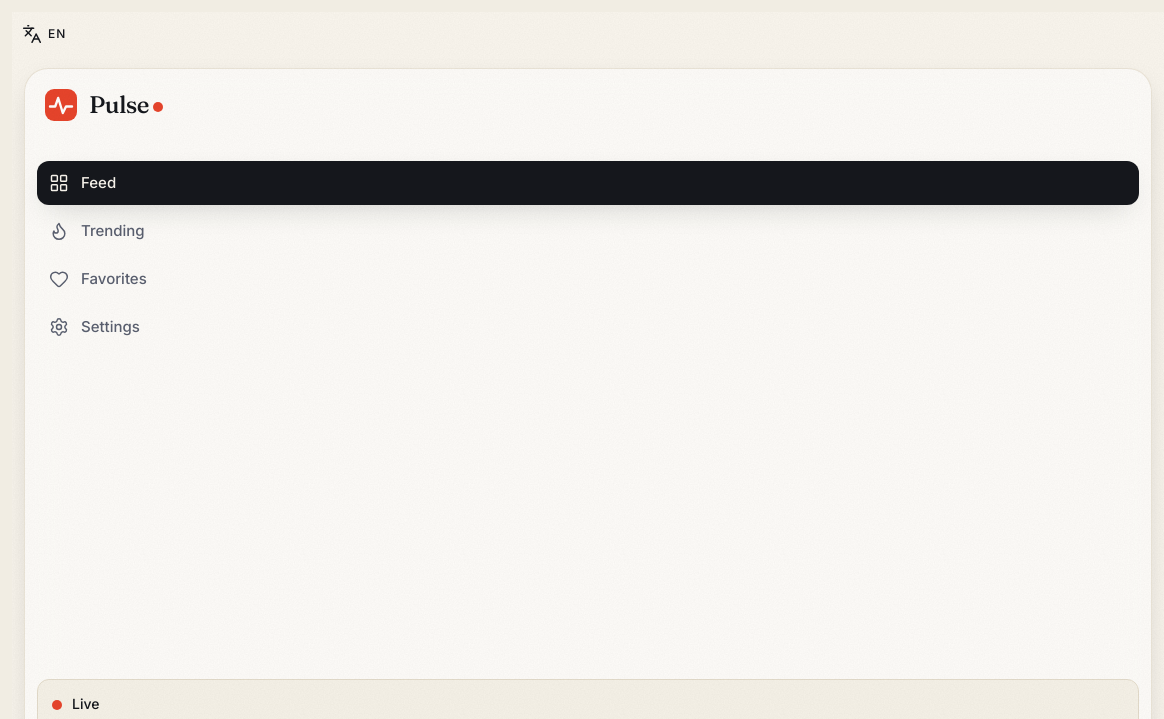
it: LanguageSwitch › choosing Español updates the store and the UI language, closes the menu and returns focus
What coordinates should you click on to do the following:
click the button with aria-label "Language:"
I would click on:
 (44, 34)
Its box is x1=12 y1=12 x2=76 y2=56.
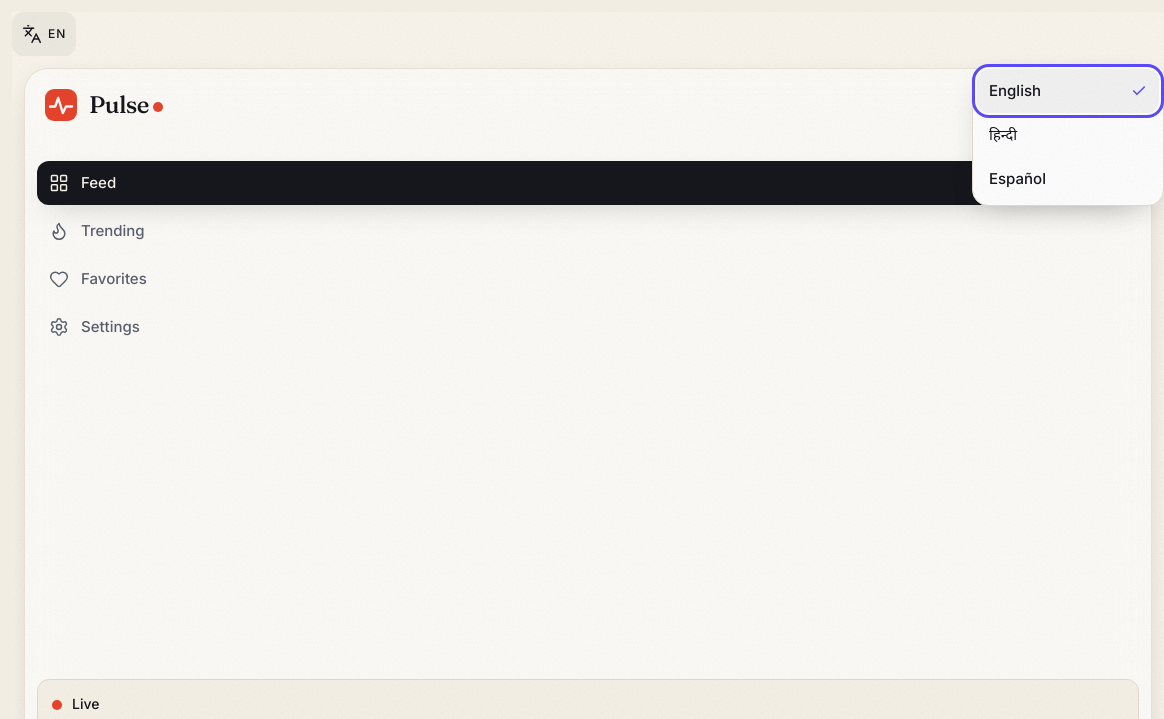
What coordinates should you click on to do the following:
click the menu item "Español"
I would click on:
 (1068, 179)
Its box is x1=977 y1=157 x2=1159 y2=201.
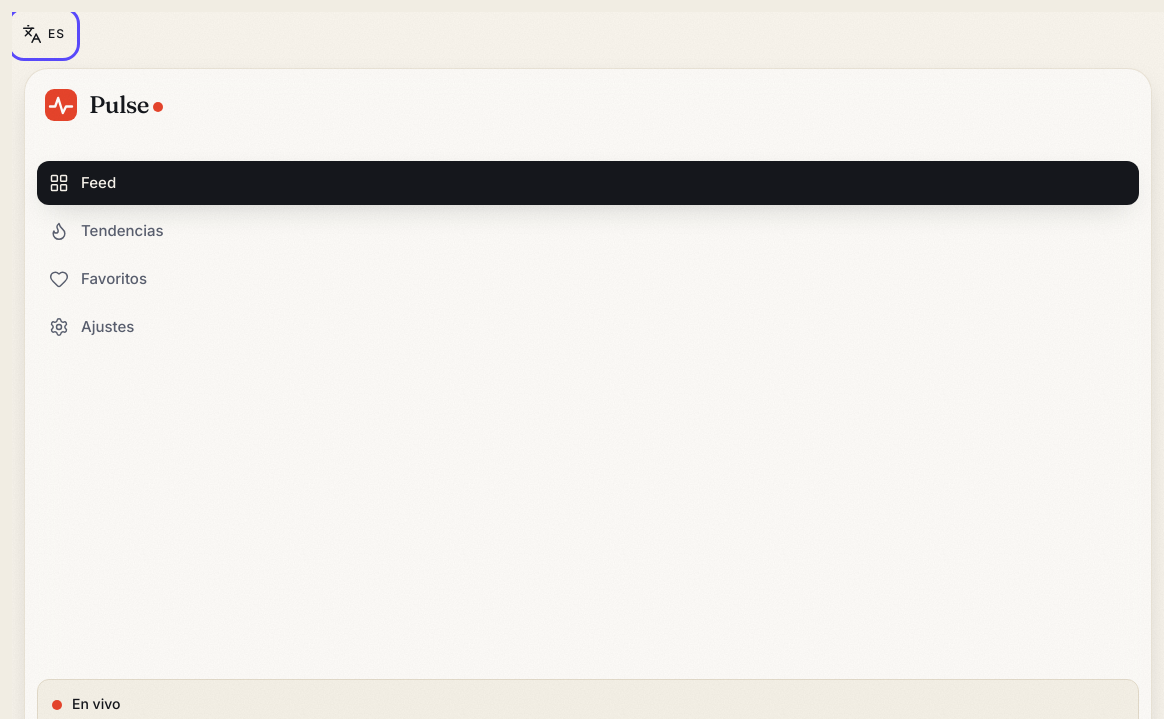
Now the text "Favoritos" is shown, box x1=81 y1=268 x2=147 y2=290
Now the menu is gone
